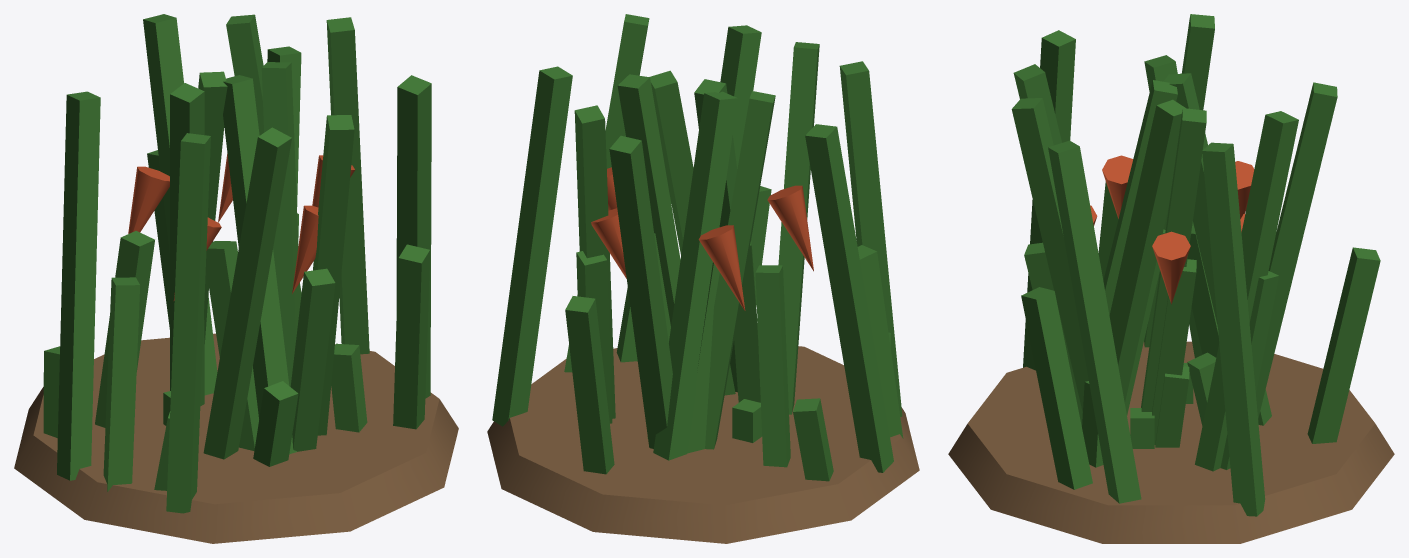
File: crop_chilli.glb
3 renders of one model, left to right at view 1: azimuth 30°, elevation 25°; view 2: azimuth 150°, elevation 25°; view 3: azimuth 270°, elevation 25°, orthographic. The views are drawn at different scales.
Parts seen in each view (by area): view 1: stage3, stage0, stage2, stage1; view 2: stage3, stage0, stage2, stage1; view 3: stage3, stage0, stage2, stage1.
Boxes of the visible parts, x1,y1,x2,y2 form: stage3: [57, 14, 431, 513]; stage0: [14, 333, 458, 543]; stage2: [95, 150, 429, 491]; stage1: [43, 343, 367, 490]; stage3: [492, 14, 902, 472]; stage0: [487, 346, 919, 543]; stage2: [565, 186, 903, 474]; stage1: [647, 332, 890, 481]; stage3: [1011, 14, 1337, 516]; stage0: [948, 341, 1394, 543]; stage2: [1021, 181, 1380, 489]; stage1: [1082, 352, 1216, 467].
Size of the model in its own units: 0.875 by 0.841 by 0.92.
